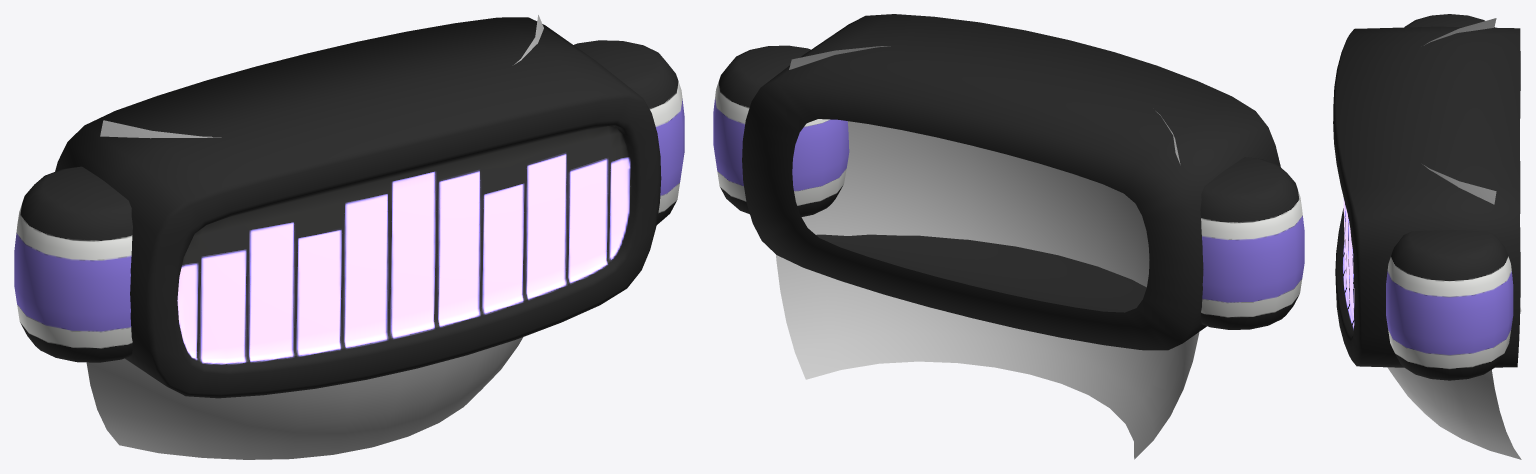
The picture shows the model from 3 angles, left to right: view 1: azimuth 30°, elevation 25°; view 2: azimuth 150°, elevation 25°; view 3: azimuth 270°, elevation 25°; orthographic projection. The views are drawn at different scales.
Parts seen in each view (by area): view 1: Dj Face; view 2: Dj Face; view 3: Dj Face.
Boxes of the visible parts, x1=… form: Dj Face: x1=14, y1=15, x2=684, y2=459; Dj Face: x1=713, y1=14, x2=1304, y2=459; Dj Face: x1=1333, y1=14, x2=1521, y2=459.
Bounding box in the file's own units: 74.68 × 38.31 × 22.95.
